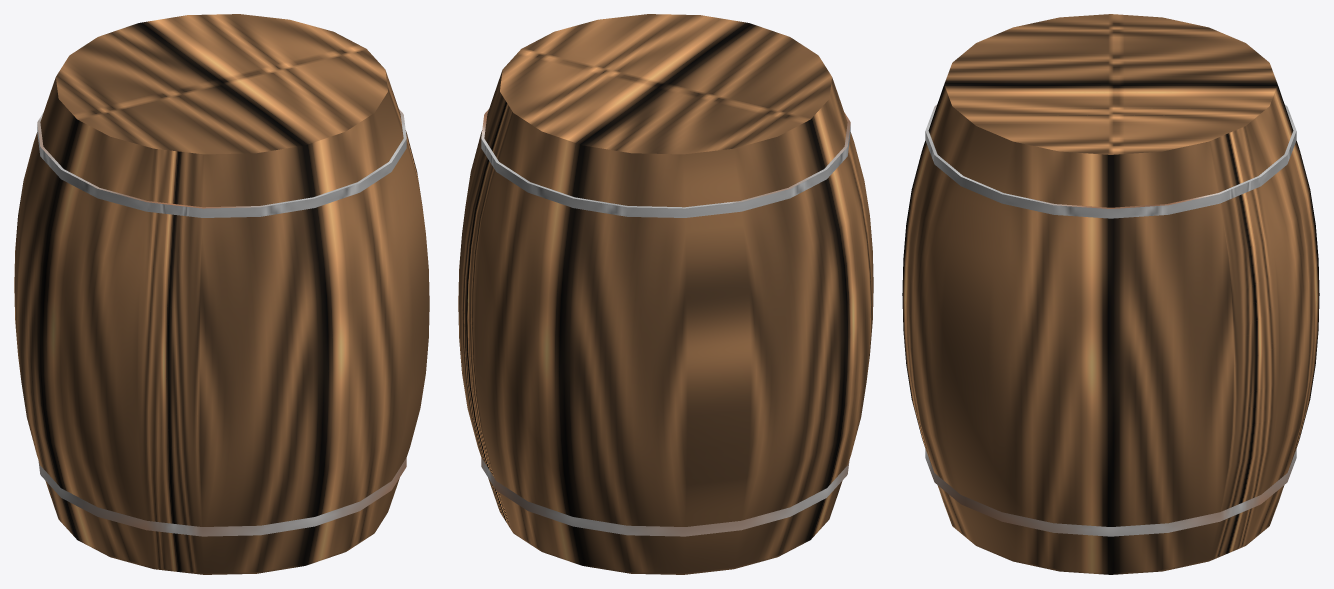
Rendered from barrel.obj.
3 renders of one model, left to right at view 1: azimuth 30°, elevation 25°; view 2: azimuth 150°, elevation 25°; view 3: azimuth 270°, elevation 25°, orthographic.
Bounding box in the file's own units: 0.9 × 1 × 0.9.
2 materials, 2 textured.
